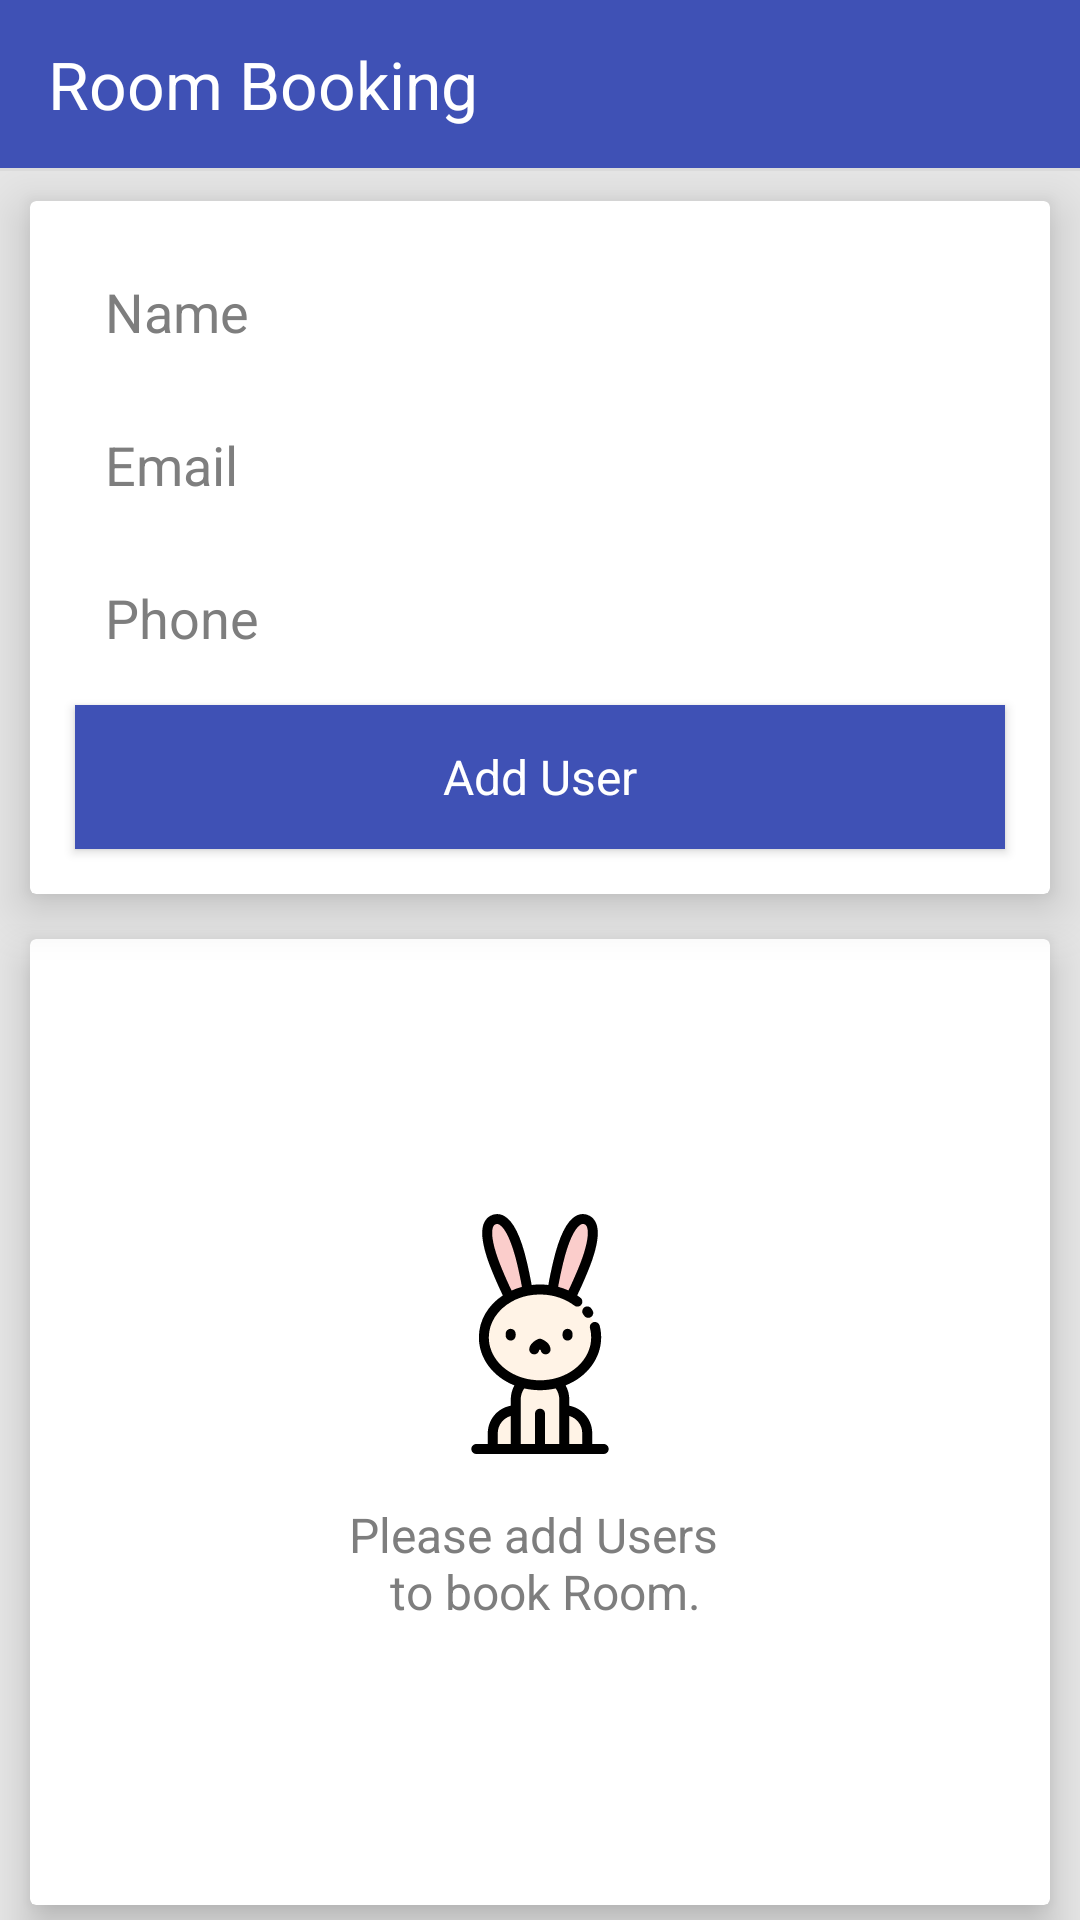

Locate icon controls on the screen. Image size 1080x1920, boxes as box=[x1, y1, x2, y2].
rabbit: box=[471, 1214, 609, 1454]
